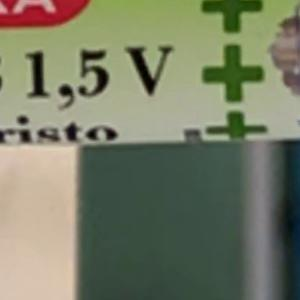1,5V: (7, 36, 183, 135)
